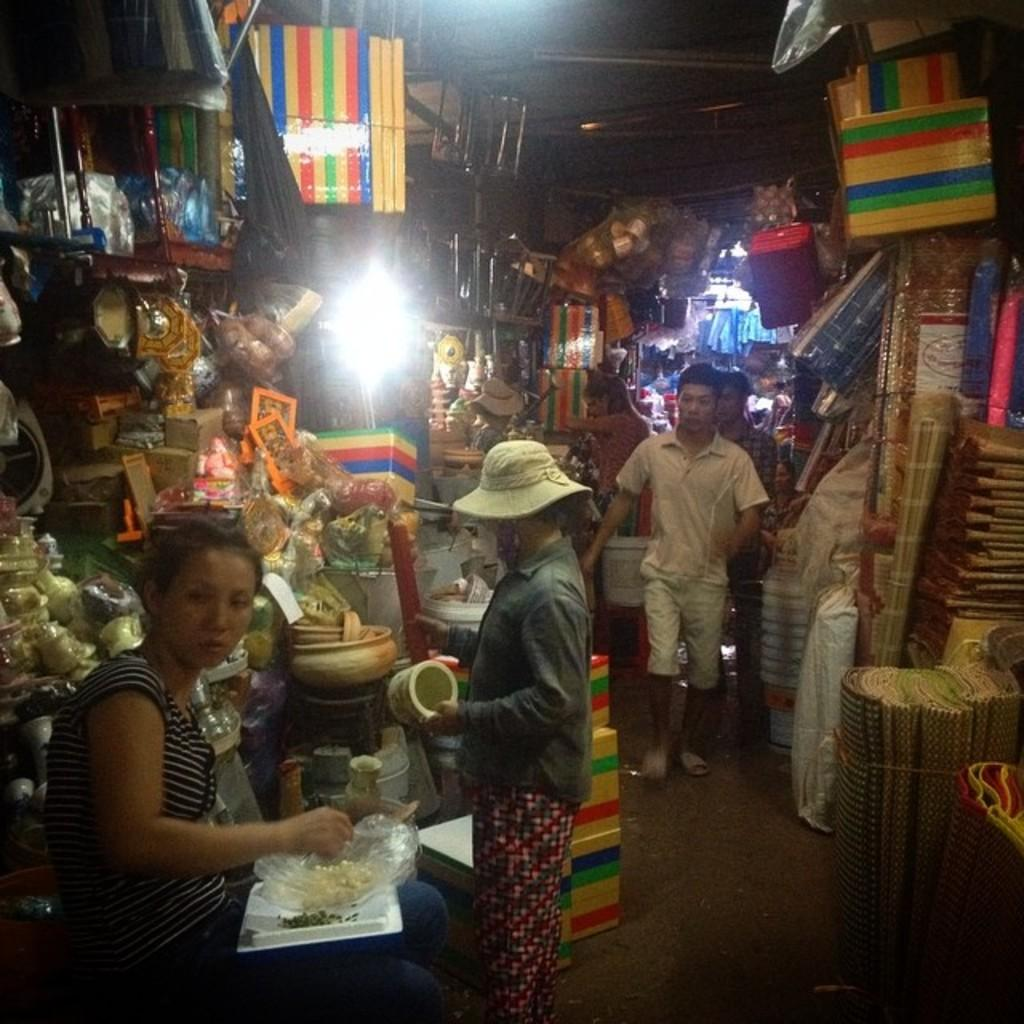Hat: (444, 438, 596, 526)
